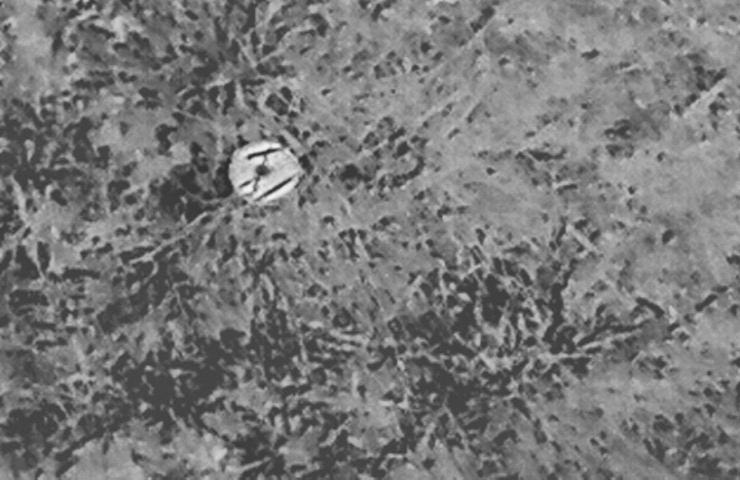landmines: (226, 138, 307, 208)
